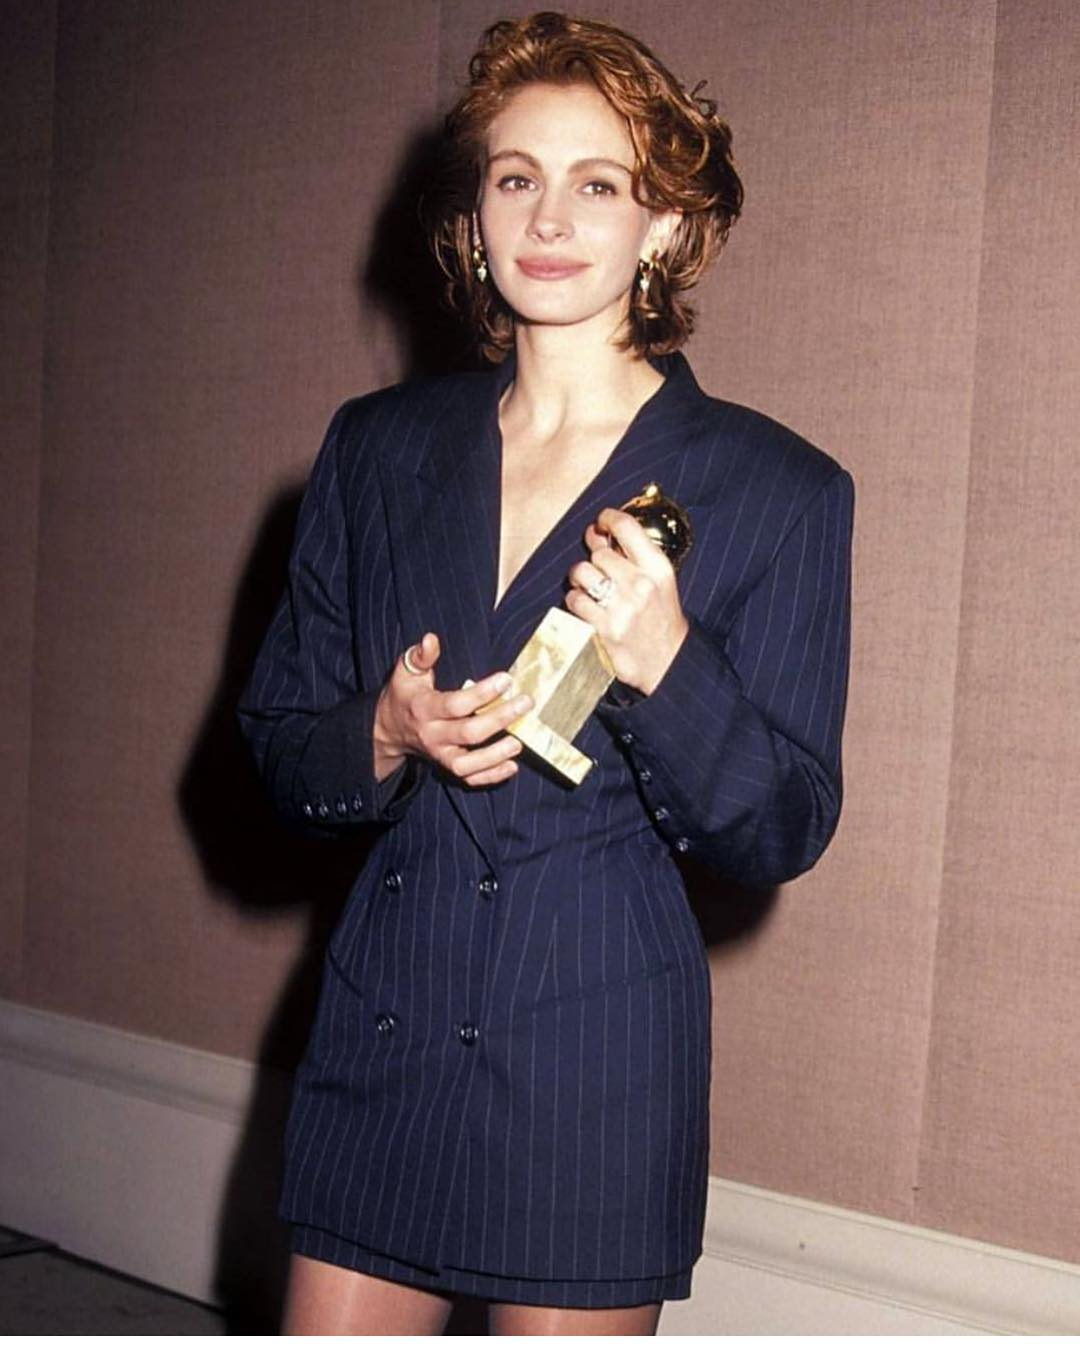hand: (372, 638, 514, 780)
